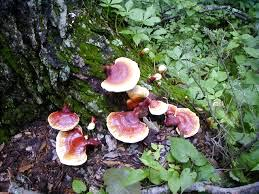Ganoderma - Fruit Body: (148, 101, 199, 138), (104, 111, 149, 143), (101, 56, 140, 90), (56, 135, 98, 165), (48, 109, 80, 129)
